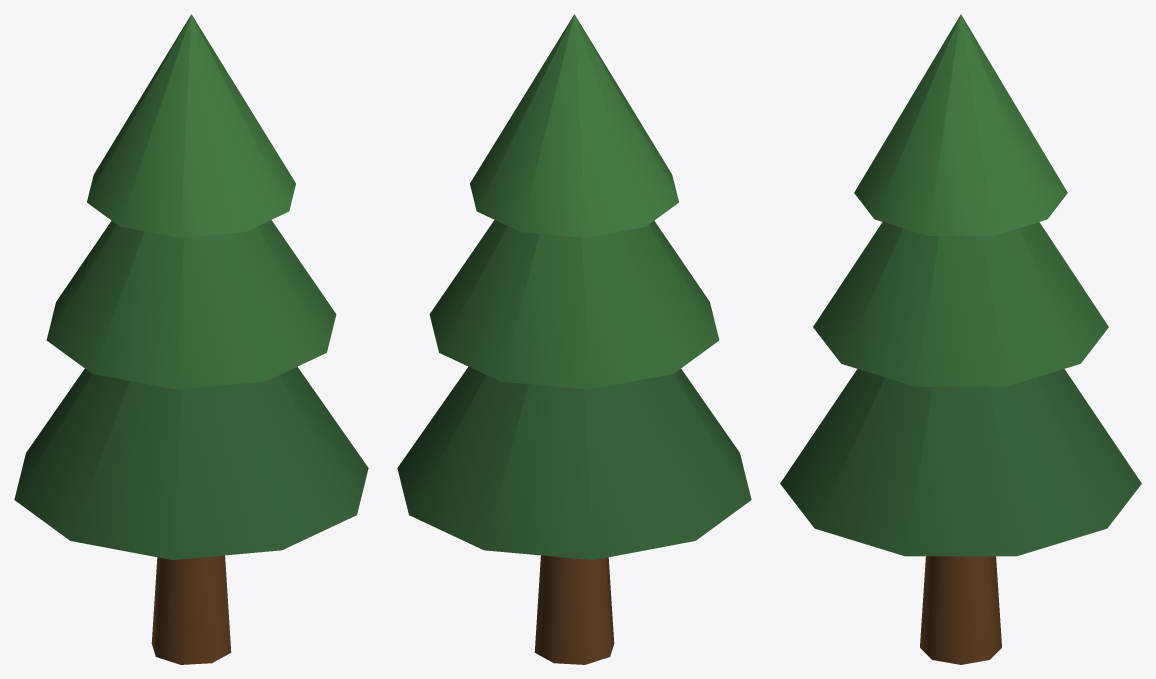
The model's file is forest-pine-v1-source.glb.
3 views of the same model, side by side, from view 1: azimuth 30°, elevation 25°; view 2: azimuth 150°, elevation 25°; view 3: azimuth 270°, elevation 25° (orthographic).
Visible parts, largest first — view 1: forest_pine_v1_source_lower_foliage, forest_pine_v1_source_mid_foliage, forest_pine_v1_source_upper_foliage, forest_pine_v1_source_trunk; view 2: forest_pine_v1_source_lower_foliage, forest_pine_v1_source_mid_foliage, forest_pine_v1_source_upper_foliage, forest_pine_v1_source_trunk; view 3: forest_pine_v1_source_lower_foliage, forest_pine_v1_source_mid_foliage, forest_pine_v1_source_upper_foliage, forest_pine_v1_source_trunk.
Boxes of the visible parts, x1,y1,x2,y2 form: forest_pine_v1_source_lower_foliage: (14,366,368,559); forest_pine_v1_source_mid_foliage: (46,220,336,389); forest_pine_v1_source_upper_foliage: (87,14,295,237); forest_pine_v1_source_trunk: (151,555,231,664); forest_pine_v1_source_lower_foliage: (397,366,751,559); forest_pine_v1_source_mid_foliage: (429,220,719,389); forest_pine_v1_source_upper_foliage: (470,14,678,237); forest_pine_v1_source_trunk: (534,555,614,664); forest_pine_v1_source_lower_foliage: (780,369,1141,556); forest_pine_v1_source_mid_foliage: (813,222,1108,386); forest_pine_v1_source_upper_foliage: (854,14,1067,235); forest_pine_v1_source_trunk: (920,556,1001,664).
Bounding box in the file's own units: 0.4185 × 0.85 × 0.44.
